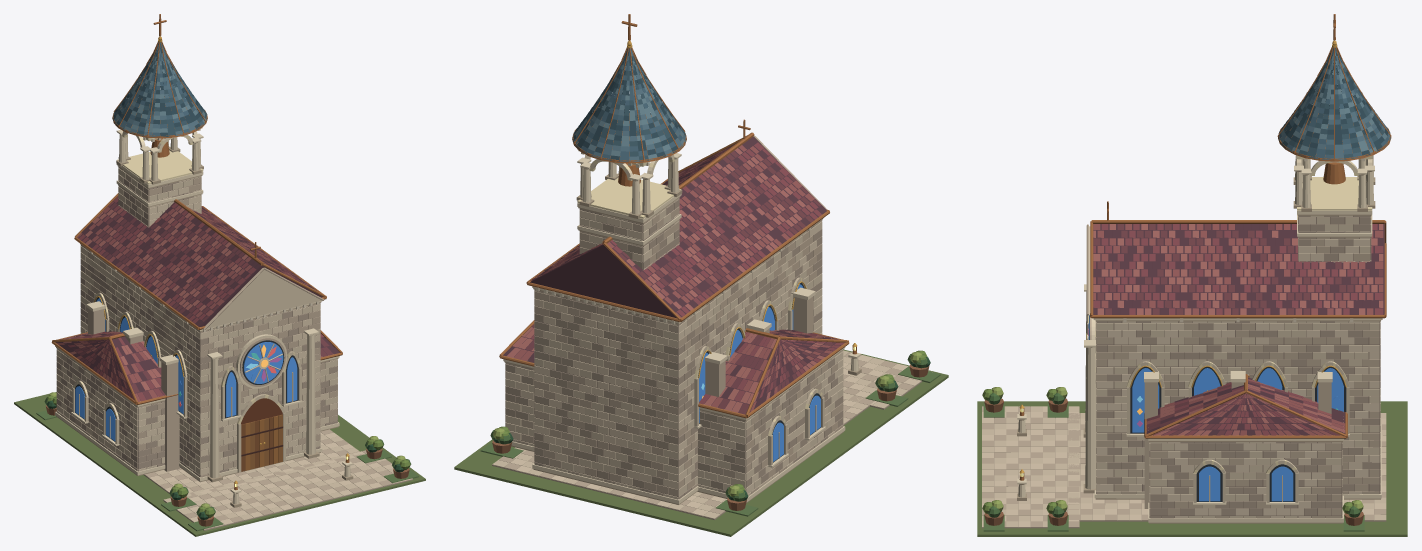
File: church-nivel-4.glb
3 renders of one model, left to right at view 1: azimuth 30°, elevation 25°; view 2: azimuth 150°, elevation 25°; view 3: azimuth 270°, elevation 25°, orthographic. The views are drawn at different scales.
Parts seen in each view (by area): view 1: Igreja 04 #d3c3a9, Igreja 04 #c1af99, Igreja 04 #dac9af, Igreja 04 #593b44, Igreja 04 #ae9d8b, Igreja 04 #e6d7ba, Igreja 04 #6c7d4e, Igreja 04 #a76e42, Igreja 04 #70444a, Igreja 04 #824a50, Igreja 04 #8f5655, Igreja 04 #9e645f (+17 smaller); view 2: Igreja 04 #c1af99, Igreja 04 #dac9af, Igreja 04 #ae9d8b, Igreja 04 #d3c3a9, Igreja 04 #593b44, Igreja 04 #6c7d4e, Igreja 04 #a76e42, Igreja 04 #e6d7ba, Igreja 04 #70444a, Igreja 04 #9e645f, Igreja 04 #8f5655, Igreja 04 #824a50 (+11 smaller); view 3: Igreja 04 #c1af99, Igreja 04 #d3c3a9, Igreja 04 #dac9af, Igreja 04 #593b44, Igreja 04 #ae9d8b, Igreja 04 #6c7d4e, Igreja 04 #e6d7ba, Igreja 04 #a76e42, Igreja 04 #824a50, Igreja 04 #8f5655, Igreja 04 #9e645f, Igreja 04 #70444a (+13 smaller).
Part boxes in pixels (x1,y1,x2,y2): Igreja 04 #d3c3a9: (56, 168, 402, 527); Igreja 04 #c1af99: (56, 167, 392, 529); Igreja 04 #dac9af: (56, 170, 412, 525); Igreja 04 #593b44: (55, 201, 339, 400); Igreja 04 #ae9d8b: (56, 177, 412, 530); Igreja 04 #e6d7ba: (55, 129, 352, 504); Igreja 04 #6c7d4e: (14, 392, 425, 536); Igreja 04 #a76e42: (51, 14, 349, 490); Igreja 04 #70444a: (60, 202, 333, 399); Igreja 04 #824a50: (68, 196, 324, 401); Igreja 04 #8f5655: (56, 205, 322, 401); Igreja 04 #9e645f: (62, 208, 308, 390); Igreja 04 #c1af99: (498, 136, 932, 514); Igreja 04 #dac9af: (505, 210, 920, 515); Igreja 04 #ae9d8b: (492, 199, 922, 519); Igreja 04 #d3c3a9: (492, 197, 921, 518); Igreja 04 #593b44: (503, 136, 841, 412); Igreja 04 #6c7d4e: (454, 349, 948, 536); Igreja 04 #a76e42: (499, 14, 856, 418); Igreja 04 #e6d7ba: (503, 153, 861, 503); Igreja 04 #70444a: (525, 144, 834, 414); Igreja 04 #9e645f: (506, 148, 824, 412); Igreja 04 #8f5655: (513, 145, 832, 411); Igreja 04 #824a50: (530, 142, 844, 404); Igreja 04 #c1af99: (982, 216, 1386, 527); Igreja 04 #d3c3a9: (982, 215, 1386, 527); Igreja 04 #dac9af: (982, 215, 1386, 527); Igreja 04 #593b44: (1093, 224, 1384, 435); Igreja 04 #ae9d8b: (982, 215, 1386, 528); Igreja 04 #6c7d4e: (977, 401, 1407, 536); Igreja 04 #e6d7ba: (1017, 155, 1381, 522); Igreja 04 #a76e42: (1019, 14, 1391, 480); Igreja 04 #824a50: (1093, 224, 1383, 435); Igreja 04 #8f5655: (1093, 224, 1383, 435); Igreja 04 #9e645f: (1093, 224, 1383, 435); Igreja 04 #70444a: (1093, 224, 1383, 435).
Bounding box in the file's own units: 13.75 × 21.93 × 18.77.
